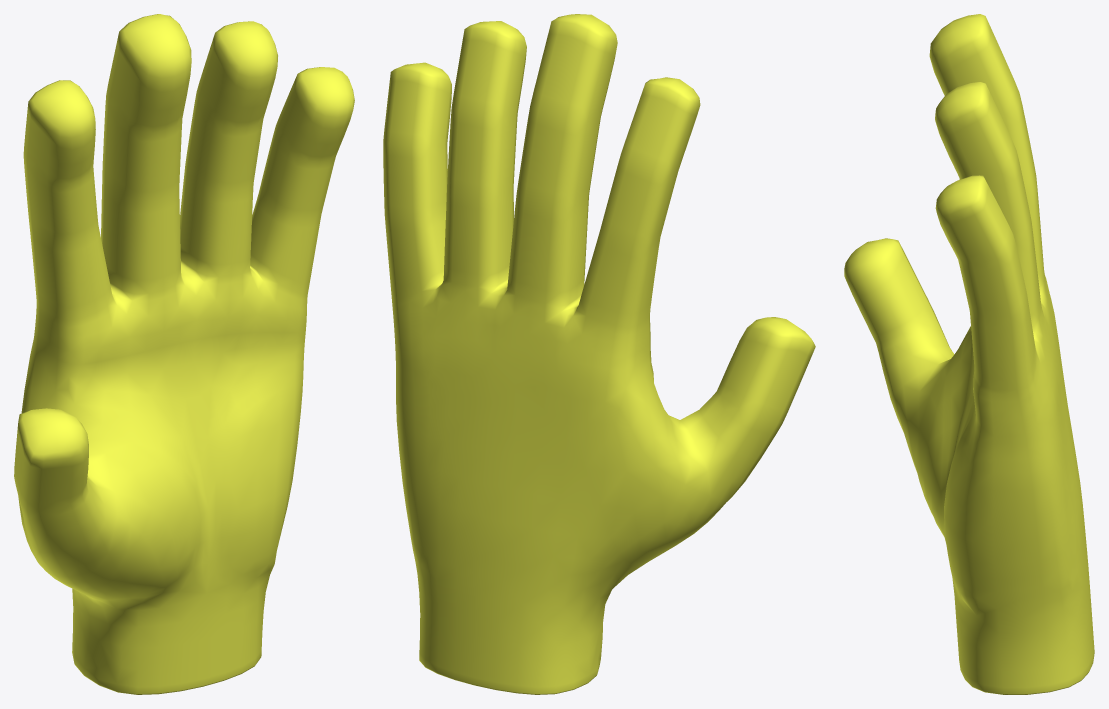
3 views of the same model, side by side, from view 1: azimuth 30°, elevation 25°; view 2: azimuth 150°, elevation 25°; view 3: azimuth 270°, elevation 25° (orthographic). The views are drawn at different scales.
Parts seen in each view (by area): view 1: uploads_files_810024_Hand; view 2: uploads_files_810024_Hand; view 3: uploads_files_810024_Hand.
Part boxes in pixels (box(x1,y1,x2,y2)): uploads_files_810024_Hand: box(14, 14, 354, 694); uploads_files_810024_Hand: box(383, 14, 815, 694); uploads_files_810024_Hand: box(844, 14, 1094, 694).
Size of the model in its own units: 1.68 by 2.84 by 1.03.
